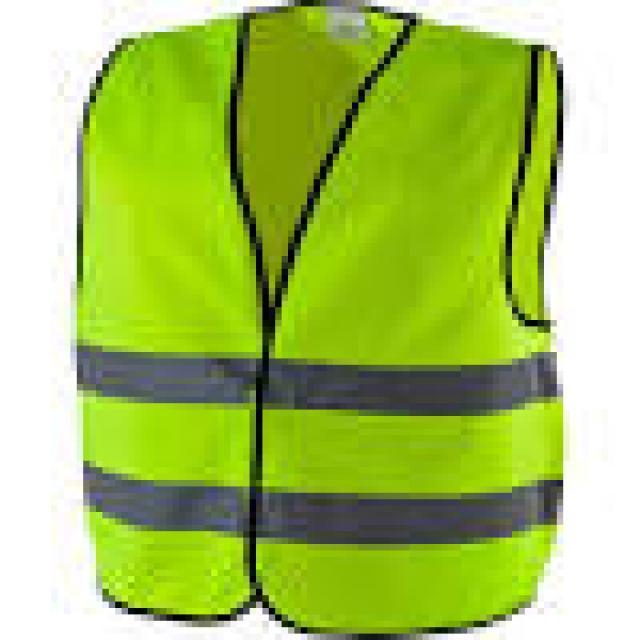reflective_jacket: (19, 6, 601, 639)
